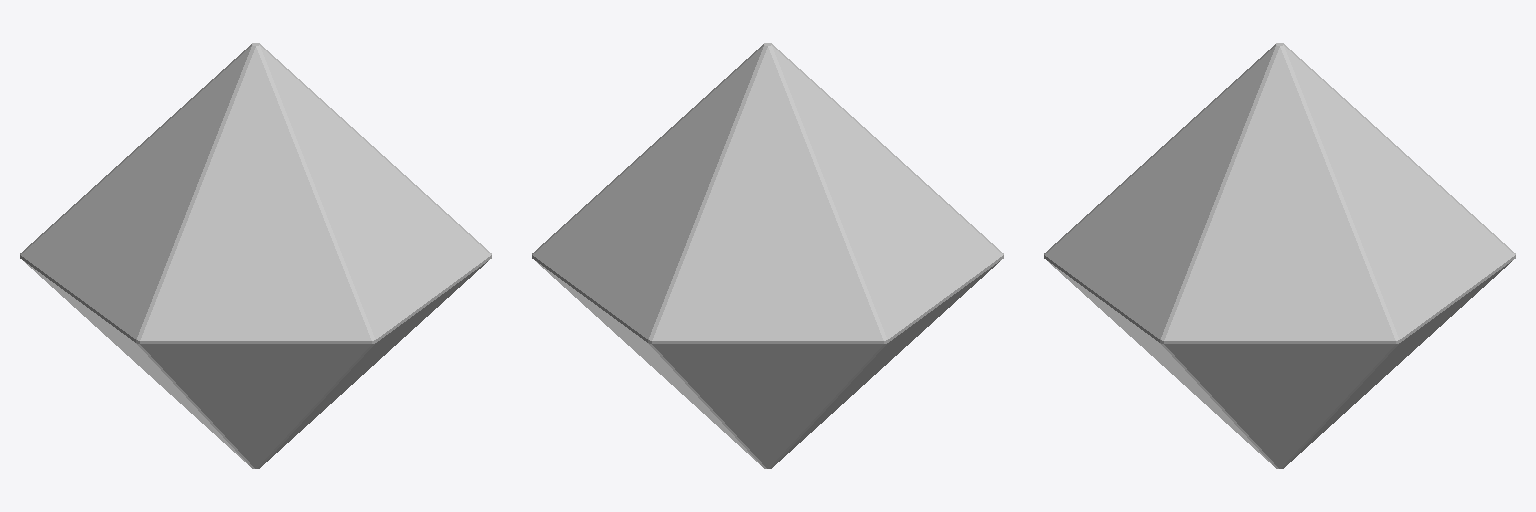
The model's file is 6-point-cut.obj.
3 views of the same model, side by side, from view 1: azimuth 30°, elevation 25°; view 2: azimuth 150°, elevation 25°; view 3: azimuth 270°, elevation 25° (orthographic).
Parts seen in each view (by area): view 1: gem_Cylinder; view 2: gem_Cylinder; view 3: gem_Cylinder.
Boxes of the visible parts, x1=… form: gem_Cylinder: x1=20, y1=43, x2=491, y2=468; gem_Cylinder: x1=532, y1=43, x2=1003, y2=468; gem_Cylinder: x1=1044, y1=43, x2=1515, y2=468.
Size of the model in its own units: 17.19 by 19.57 by 19.74.